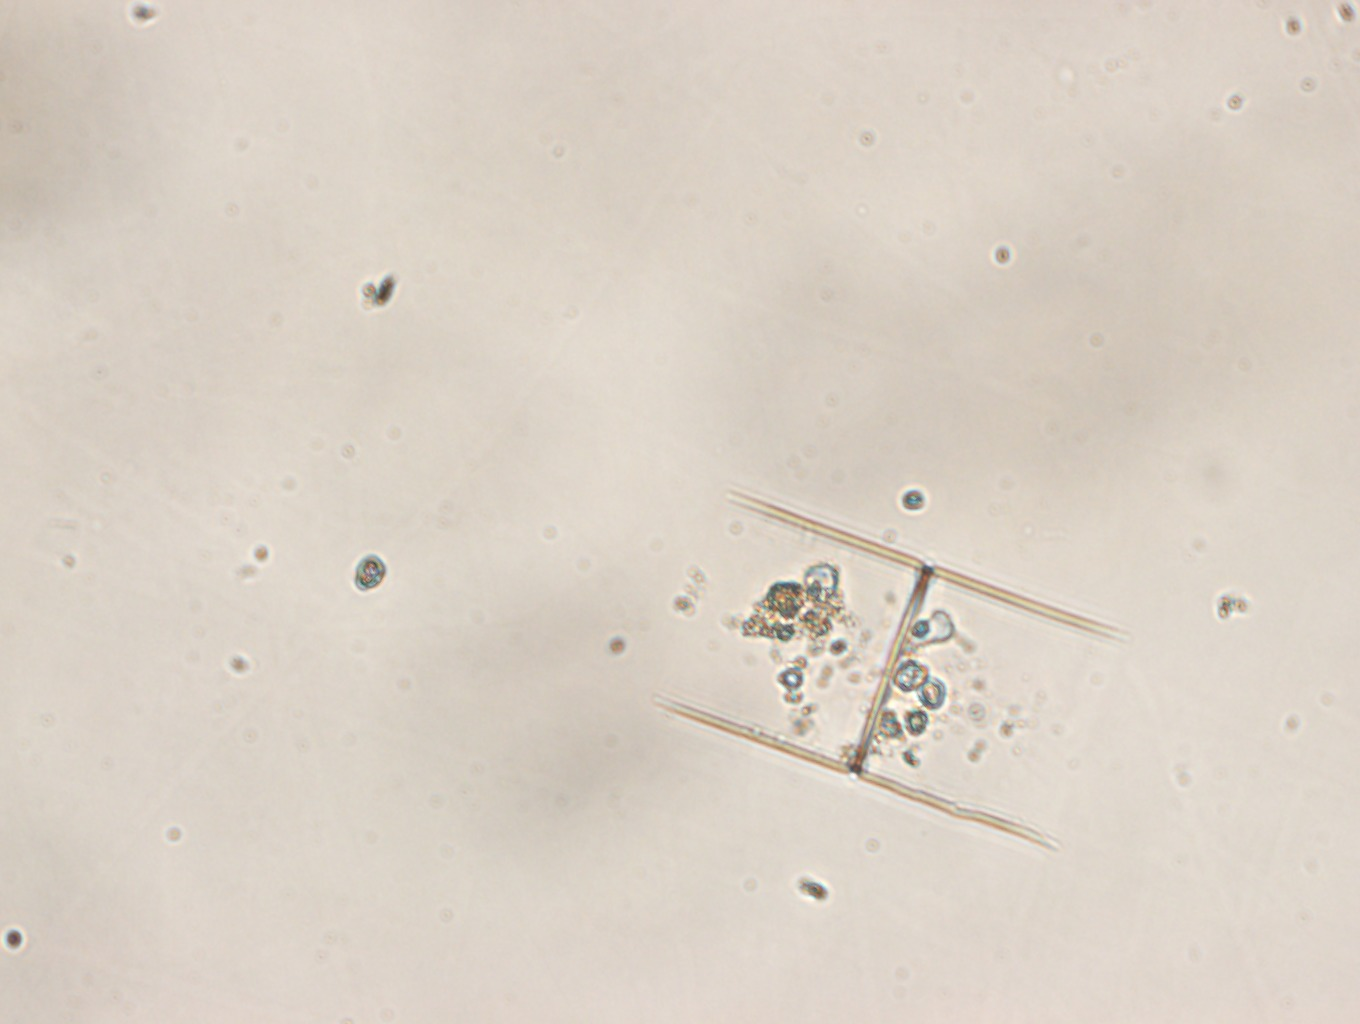guinardia flaccida: (653, 489, 1128, 851)
